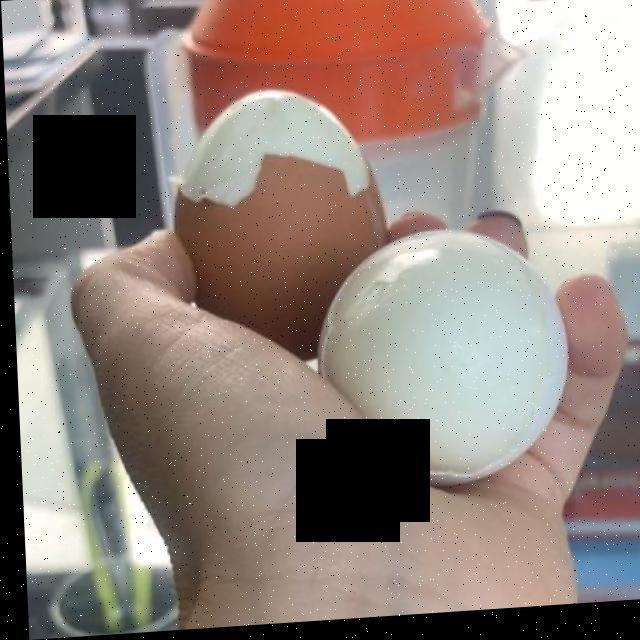egg: (168, 81, 577, 487)
